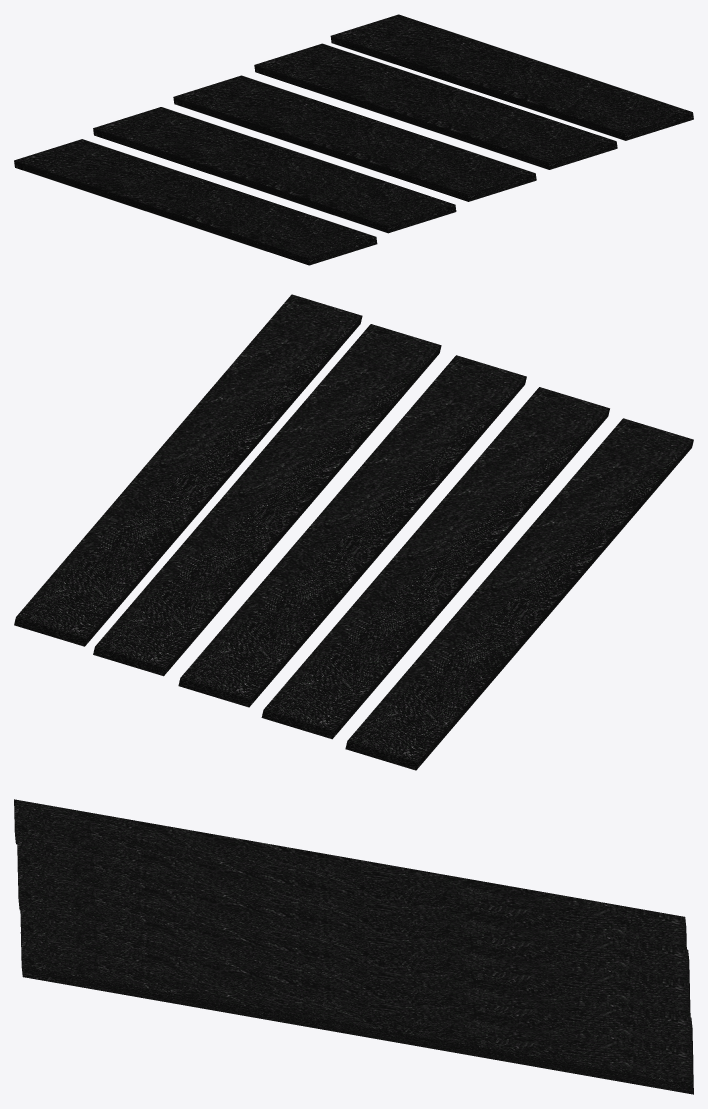
Rendered from plank.fbx.
3 renders of one model, top to bottom at view 1: azimuth 30°, elevation 25°; view 2: azimuth 150°, elevation 25°; view 3: azimuth 270°, elevation 25°, orthographic. The views are drawn at different scales.
Visible parts, largest first — view 1: node_id65, node_id64, node_id63, node_id62, node_id66; view 2: node_id63, node_id65, node_id62, node_id64, node_id66; view 3: node_id62, node_id66, node_id64, node_id65, node_id63.
Part boxes in pixels (x1,y1,x2,y2): node_id65: [254, 43, 617, 169]; node_id64: [93, 107, 456, 233]; node_id63: [14, 139, 377, 265]; node_id62: [330, 14, 693, 140]; node_id66: [173, 75, 536, 201]; node_id63: [345, 418, 693, 770]; node_id65: [93, 324, 441, 676]; node_id62: [14, 294, 362, 646]; node_id64: [261, 387, 609, 739]; node_id66: [178, 355, 526, 707]; node_id62: [20, 932, 693, 1094]; node_id66: [17, 865, 690, 1016]; node_id64: [17, 832, 689, 991]; node_id65: [20, 899, 693, 1060]; node_id63: [14, 799, 686, 949].
Bounding box in the file's own units: 0.6991 × 0.2688 × 0.8573.
Materials: 1 (1 with a texture image).
